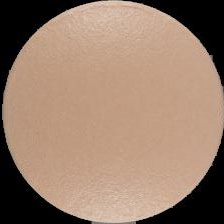68151-3114: (0, 0, 224, 224)
